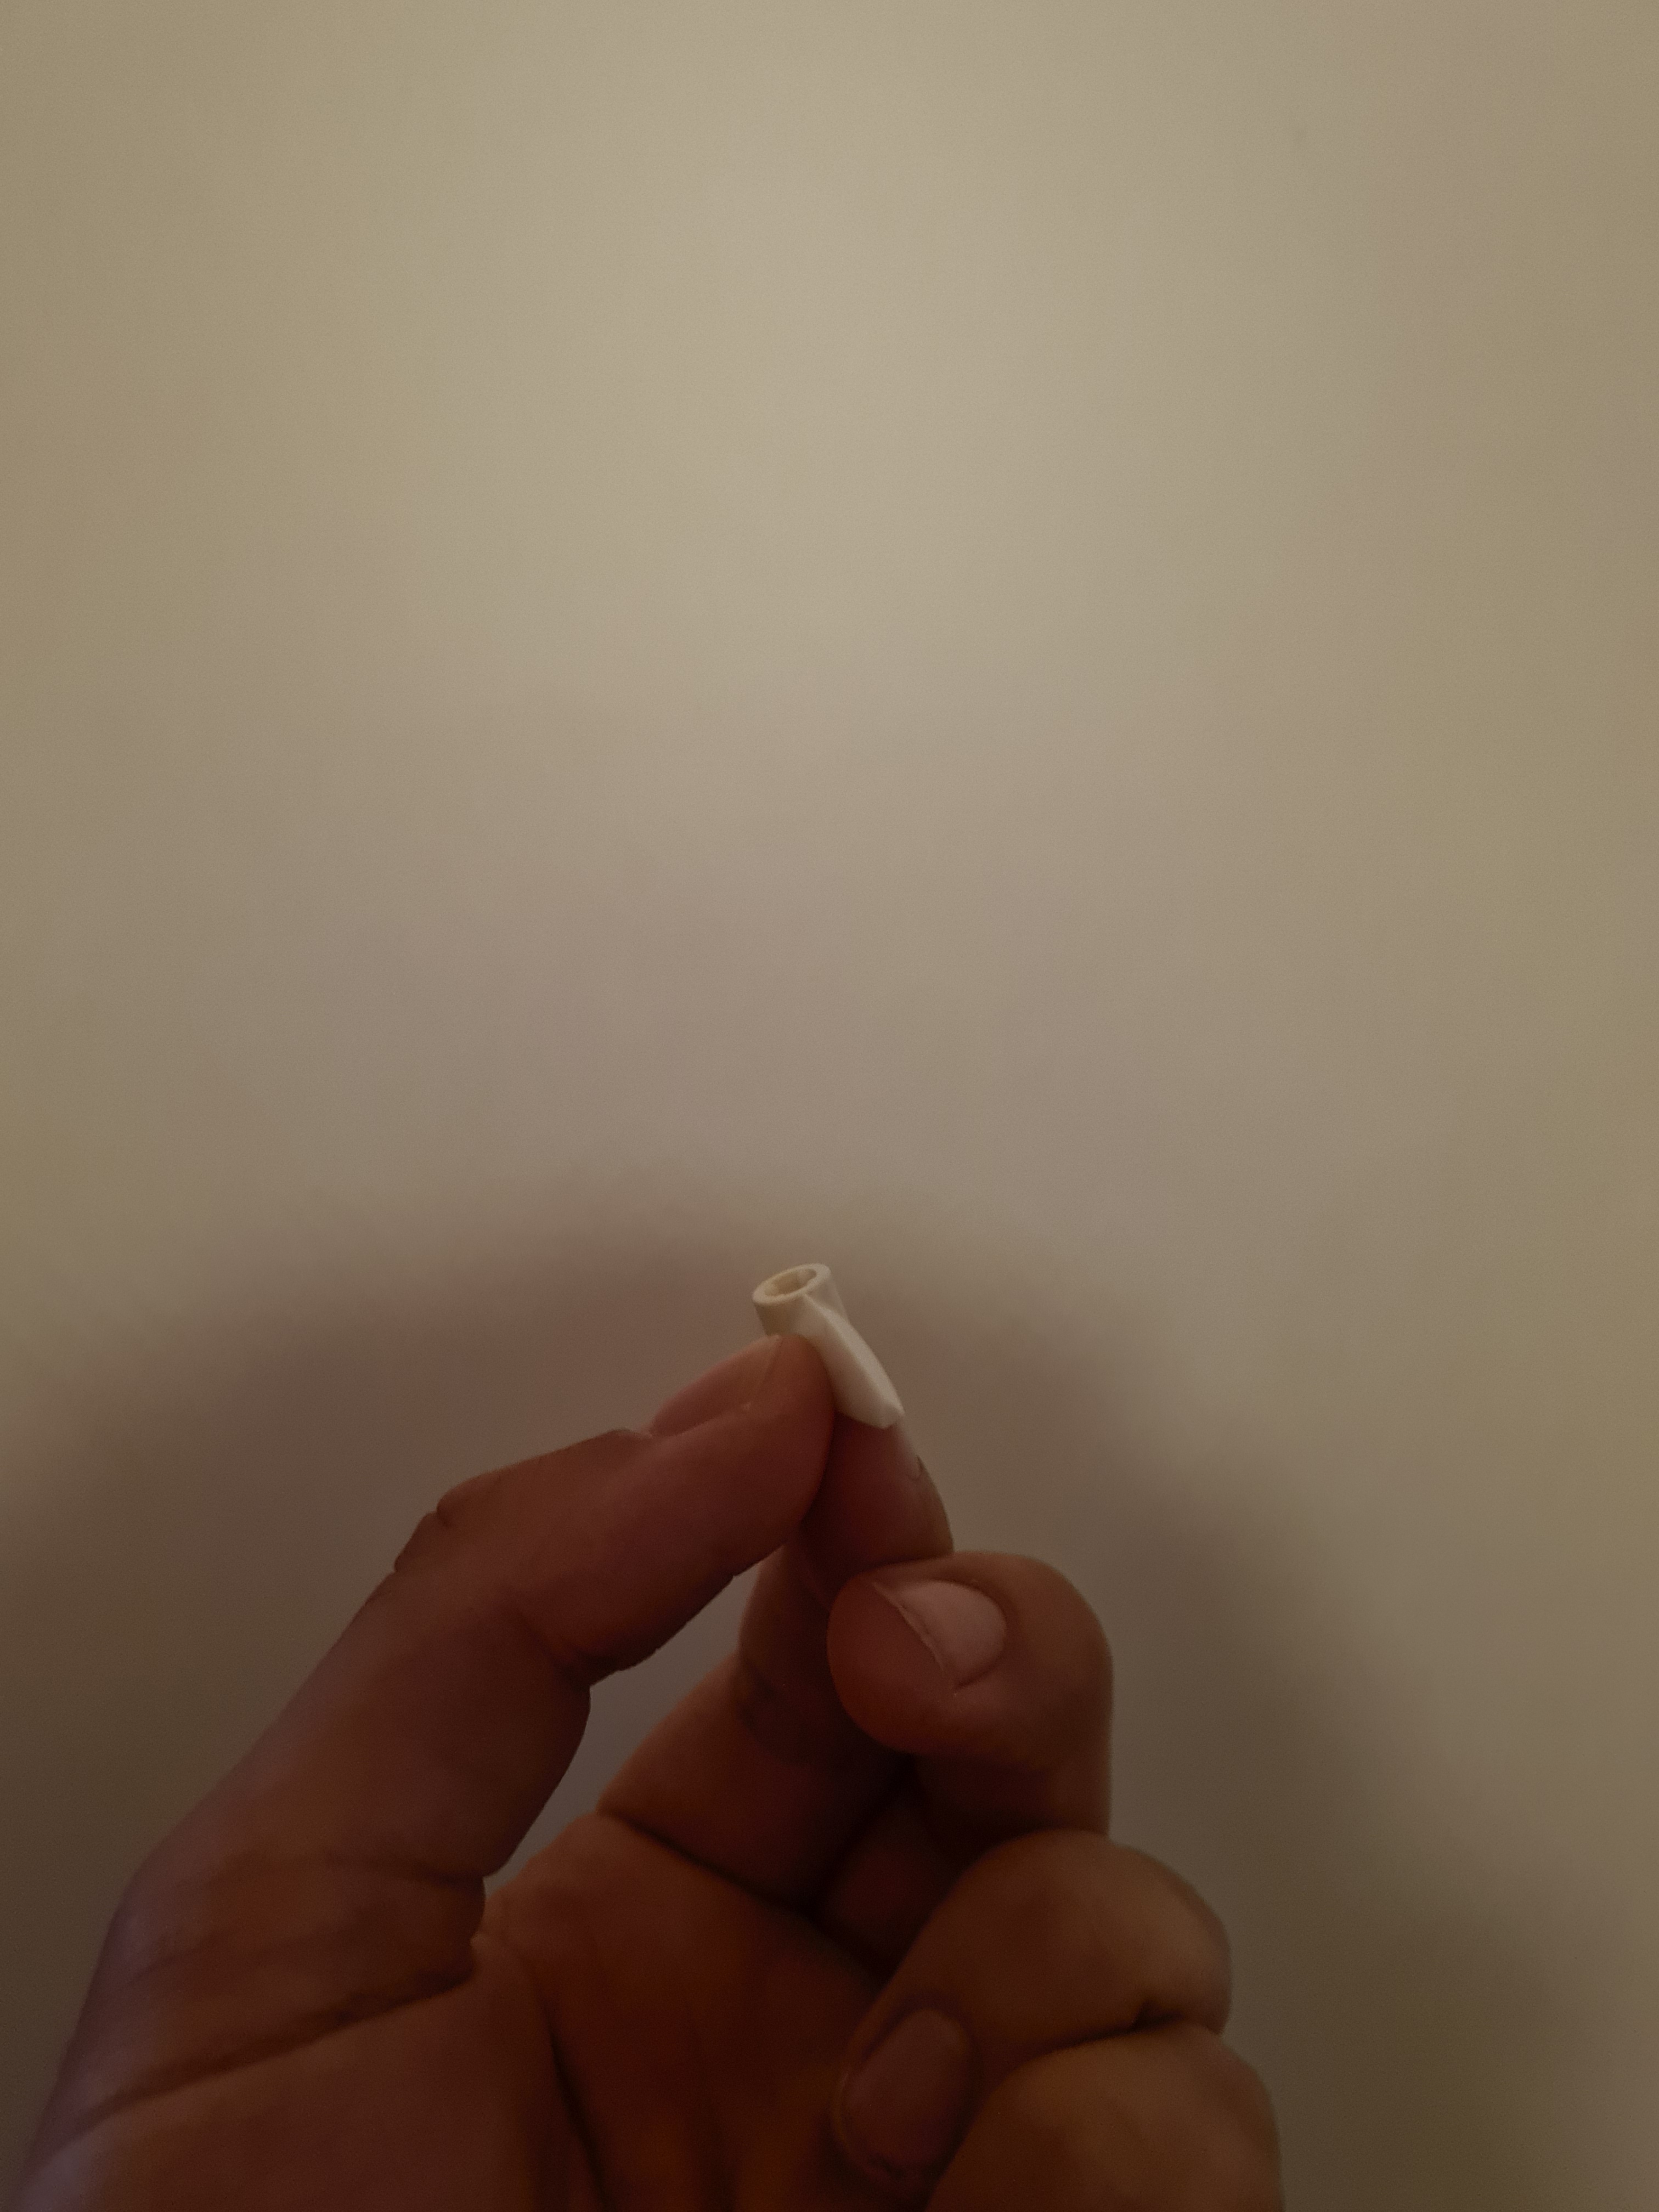Kappe: (756, 1261, 917, 1444)
